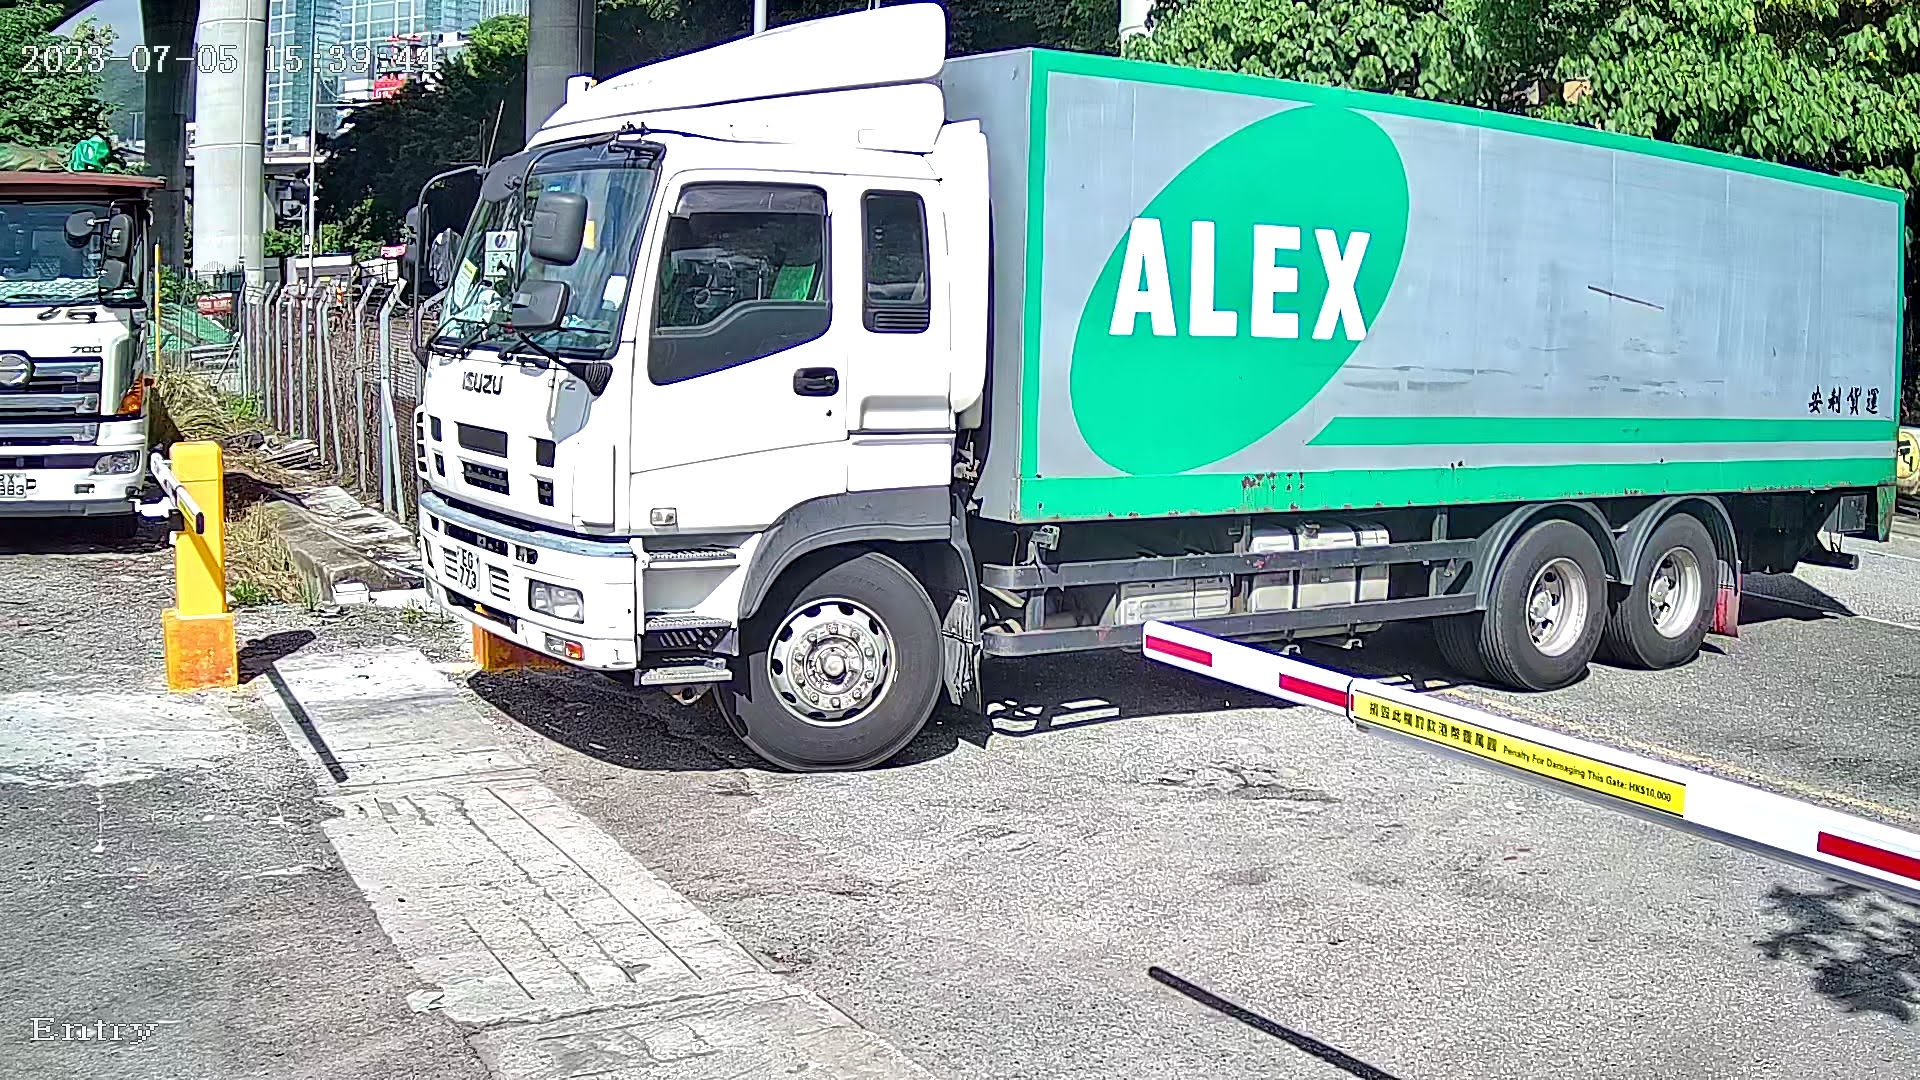truck: (375, 1, 1904, 785)
